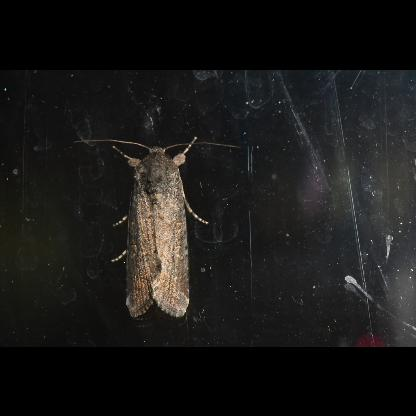Fall Armyworm Moth: (71, 133, 244, 319)
